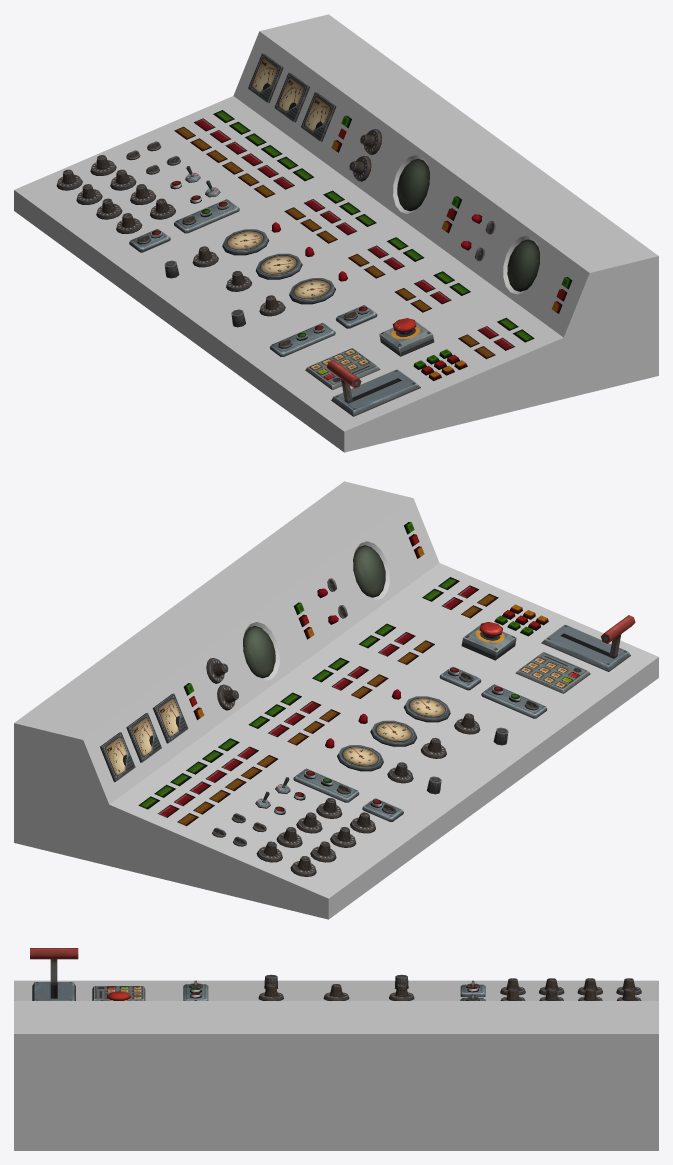
Rendered from ctrlPanel_middle03_C.FBX.
The picture shows the model from 3 angles, top to bottom: view 1: azimuth 30°, elevation 25°; view 2: azimuth 150°, elevation 25°; view 3: azimuth 270°, elevation 25°; orthographic projection. The views are drawn at different scales.
Parts seen in each view (by area): view 1: ctrlPanel_middle03_C, ctrlPanel_buttons, ctrlPanel_gauges, screen_radar02, screen_radar01; view 2: ctrlPanel_middle03_C, ctrlPanel_buttons, ctrlPanel_gauges, screen_radar01, screen_radar02; view 3: ctrlPanel_middle03_C.
Part boxes in pixels (<box>): ctrlPanel_middle03_C: <box>14,14,658,452</box>; ctrlPanel_buttons: <box>150,110,572,380</box>; ctrlPanel_gauges: <box>222,53,336,304</box>; screen_radar02: <box>507,239,539,291</box>; screen_radar01: <box>397,159,429,211</box>; ctrlPanel_middle03_C: <box>14,481,658,919</box>; ctrlPanel_buttons: <box>138,522,548,826</box>; ctrlPanel_gauges: <box>100,693,450,782</box>; screen_radar01: <box>243,626,275,678</box>; screen_radar02: <box>353,545,385,597</box>; ctrlPanel_middle03_C: <box>14,948,658,1150</box>.
Size of the model in its own units: 110 by 40 by 200.
